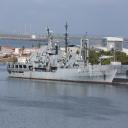Fragata: (5, 36, 119, 87)
